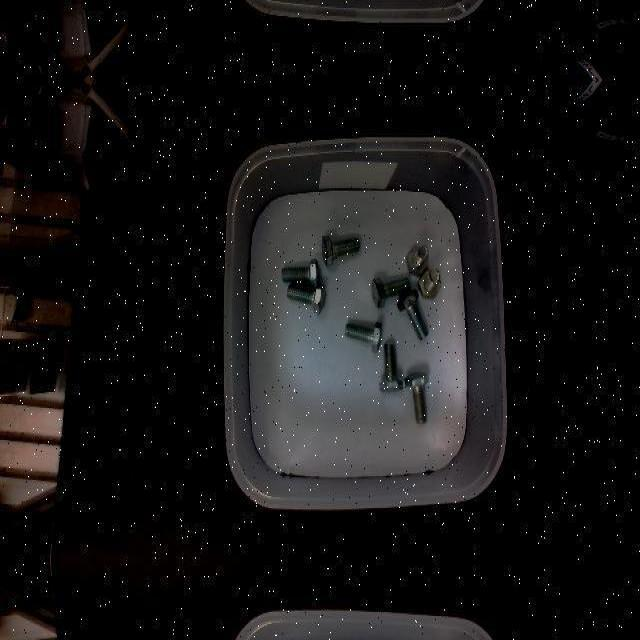screw: (396, 289, 428, 341), (379, 343, 404, 393), (281, 258, 319, 290), (371, 277, 411, 307), (404, 372, 428, 422), (287, 283, 326, 313), (321, 235, 360, 265), (345, 321, 382, 351), (405, 245, 429, 273), (419, 269, 442, 297)
